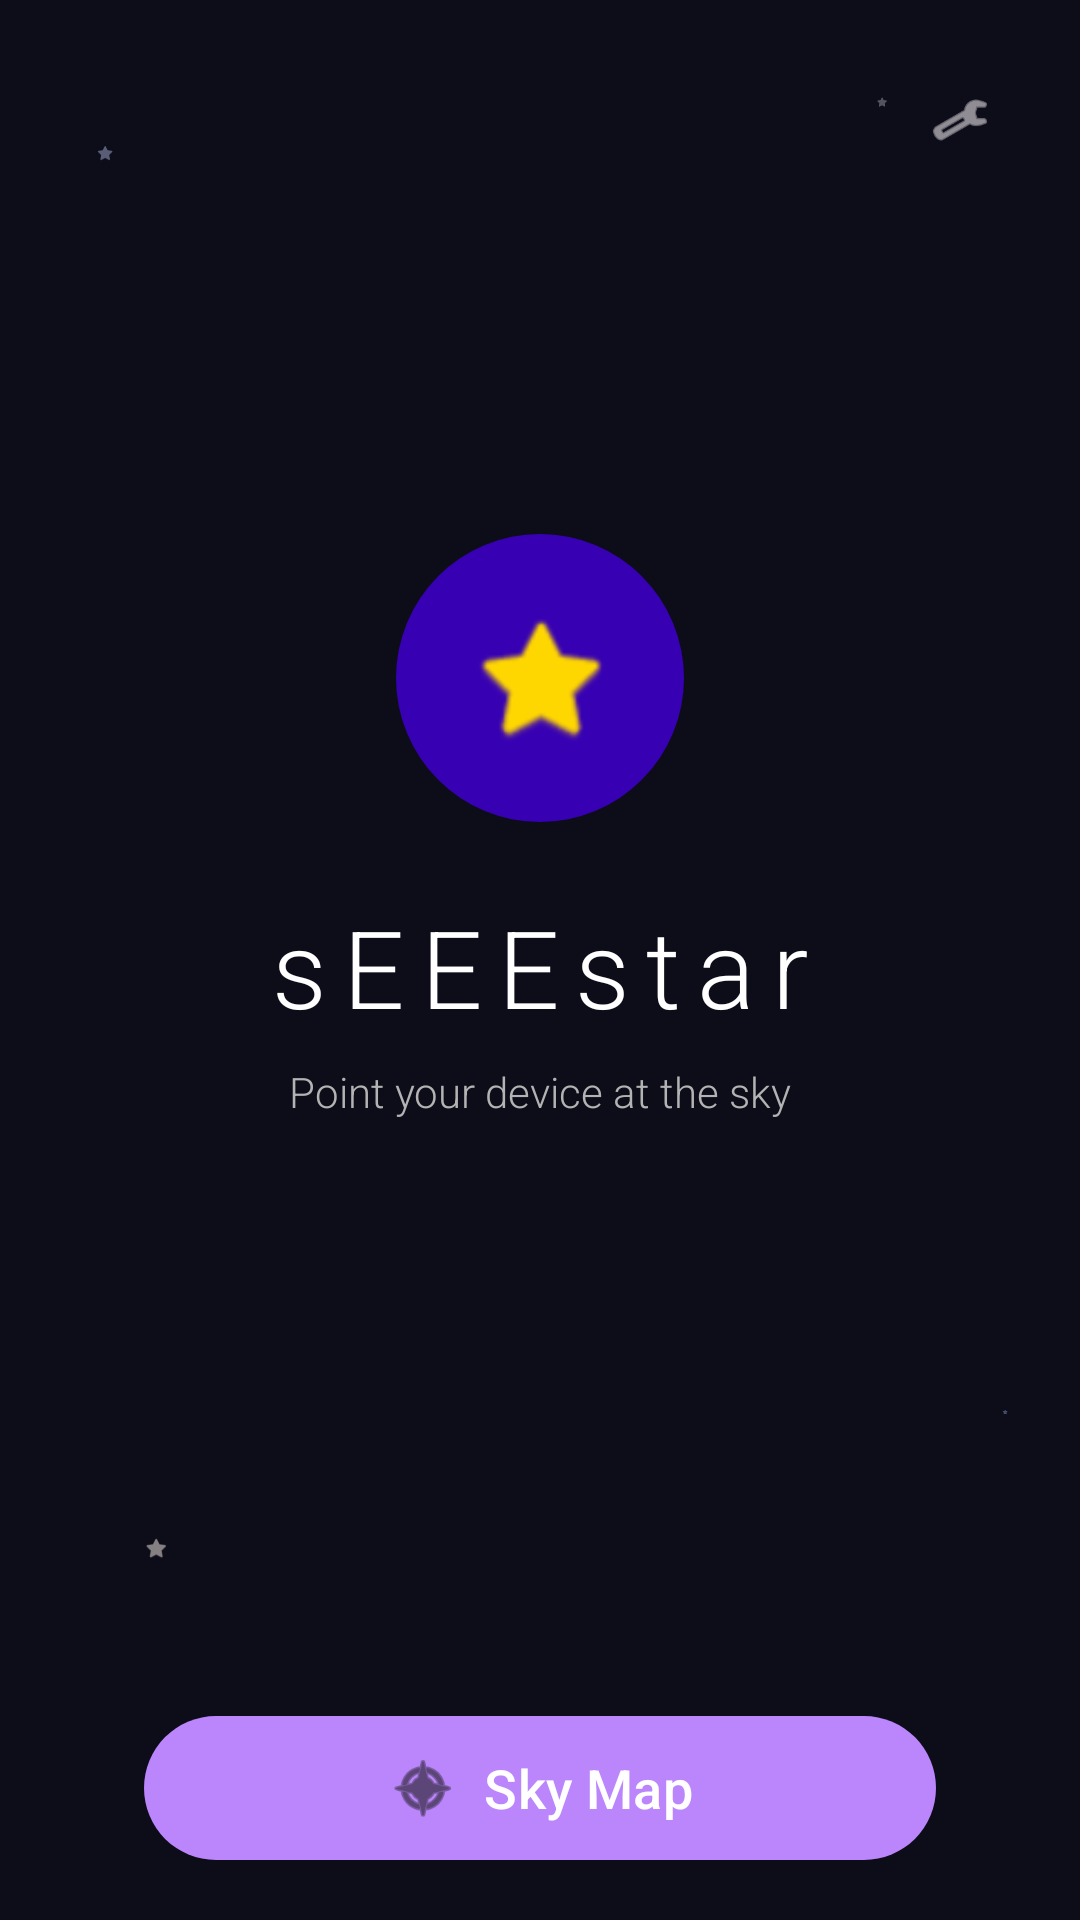

Icon click points for this 1080*1920 phone screenshot, format (x,y):
Settings icon: (960,120)
